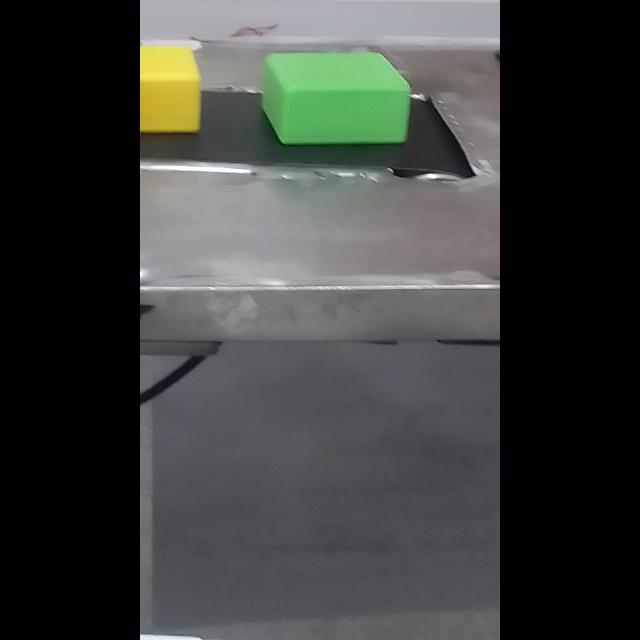greenBox: (253, 43, 415, 149)
yellowBox: (140, 39, 216, 139)
